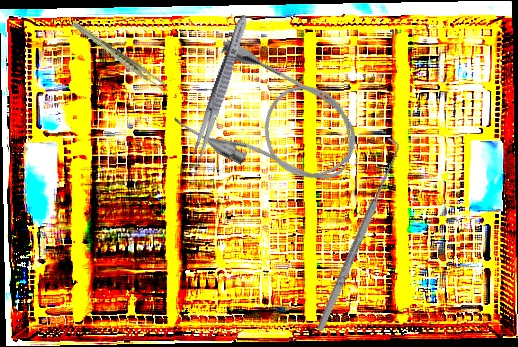Cannula: (169, 34, 373, 208)
Dressing Forceps: (187, 11, 253, 168)
Hook Surgical: (307, 137, 407, 333)
Tissue Forceps: (71, 6, 168, 105)
